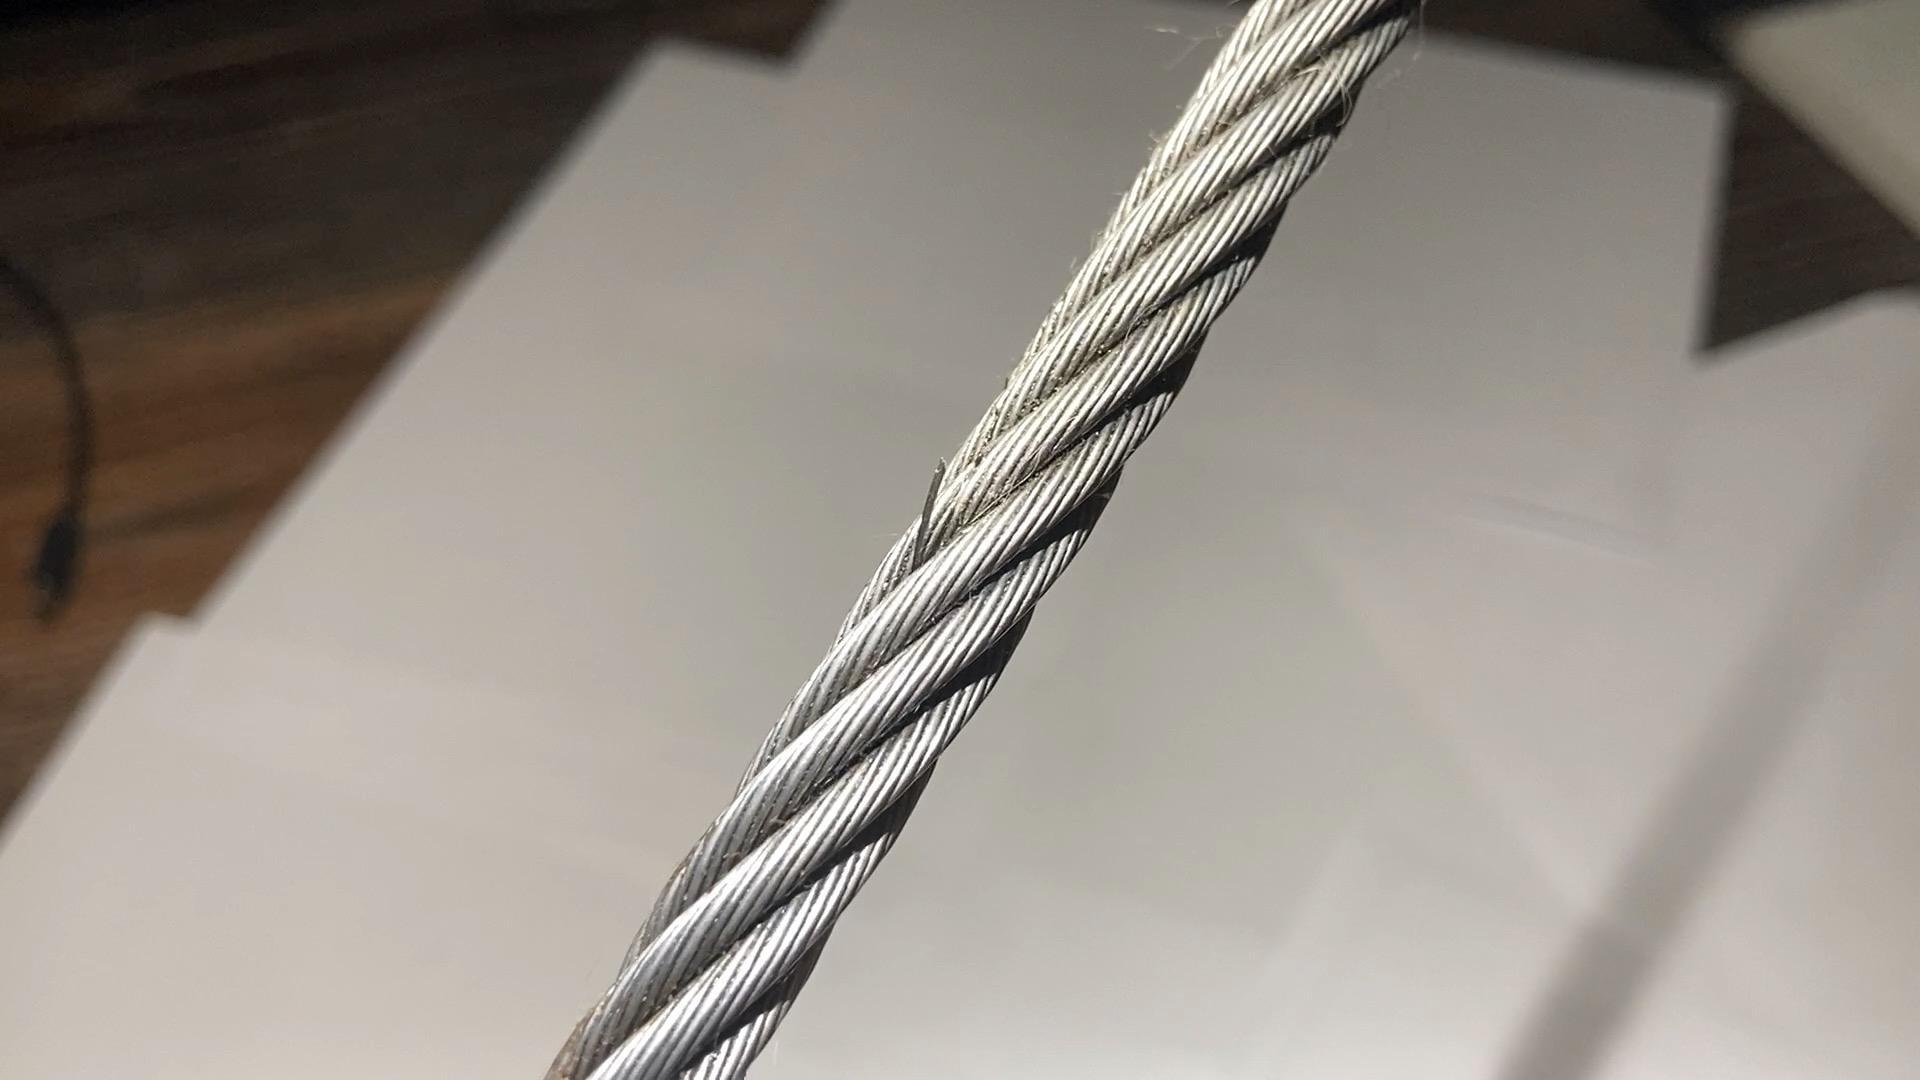break: (909, 458, 961, 574)
